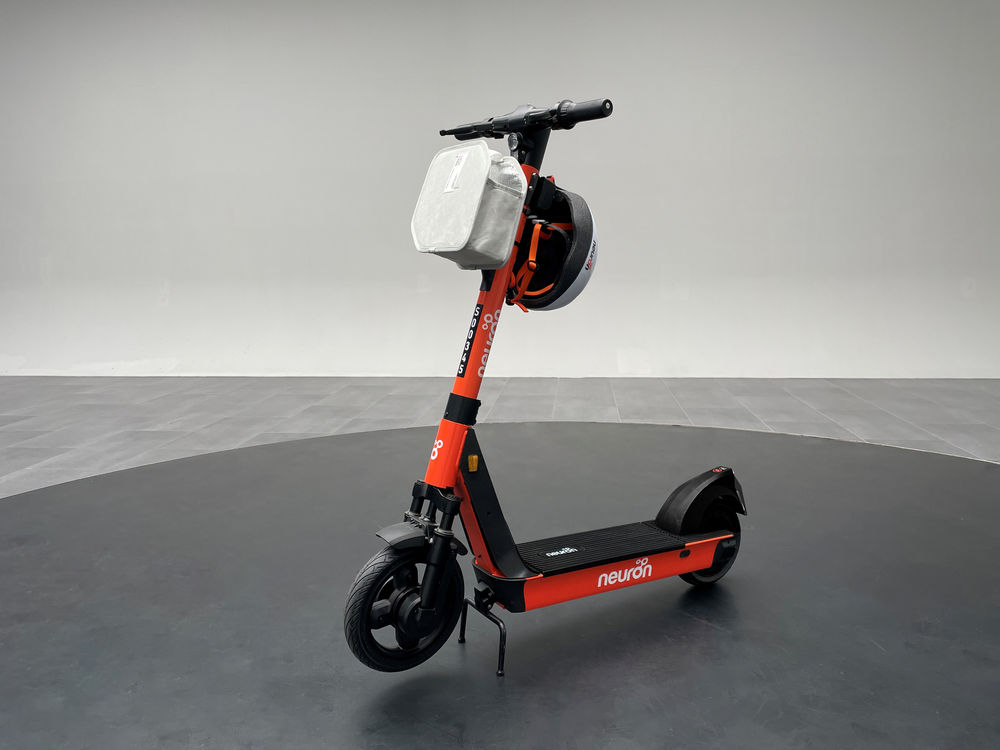scooter: (350, 97, 748, 669)
